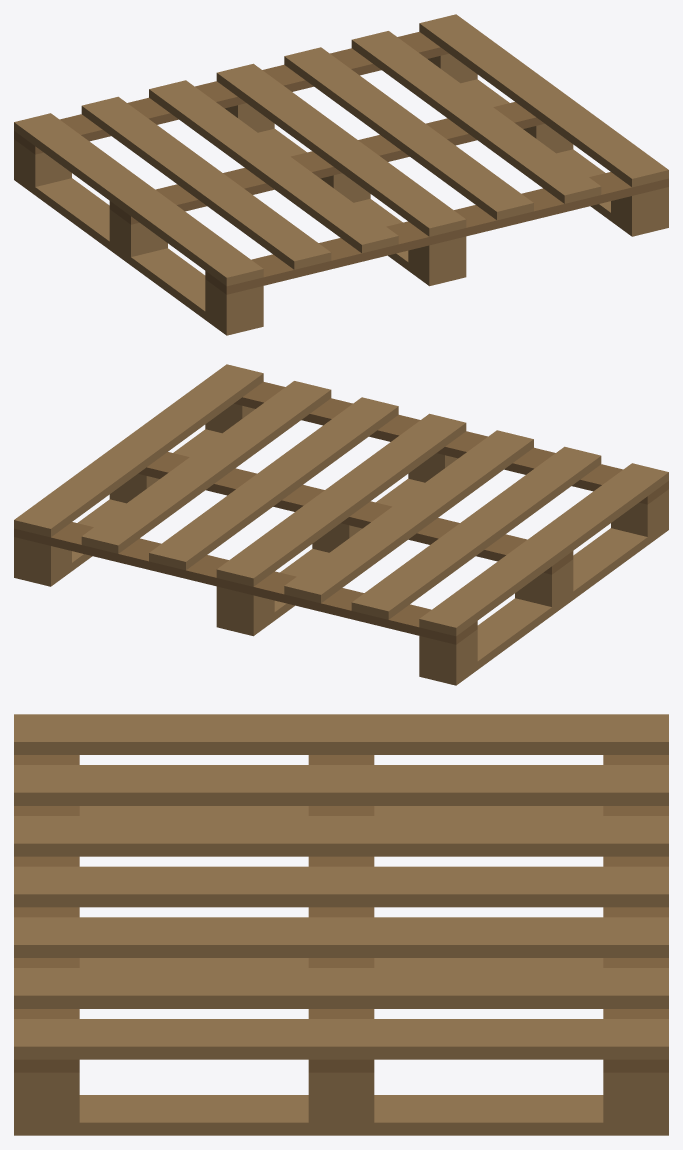
Rendered from pallet.glb.
The picture shows the model from 3 angles, top to bottom: view 1: azimuth 30°, elevation 25°; view 2: azimuth 150°, elevation 25°; view 3: azimuth 270°, elevation 25°; orthographic projection. The views are drawn at different scales.
Visible parts, largest first — view 1: pallet; view 2: pallet; view 3: pallet.
Part boxes in pixels (x1,y1,x2,y2): pallet: (14, 14, 668, 335); pallet: (14, 364, 668, 685); pallet: (14, 714, 668, 1135).
Size of the model in its own units: 1.2 by 0.15 by 1.
